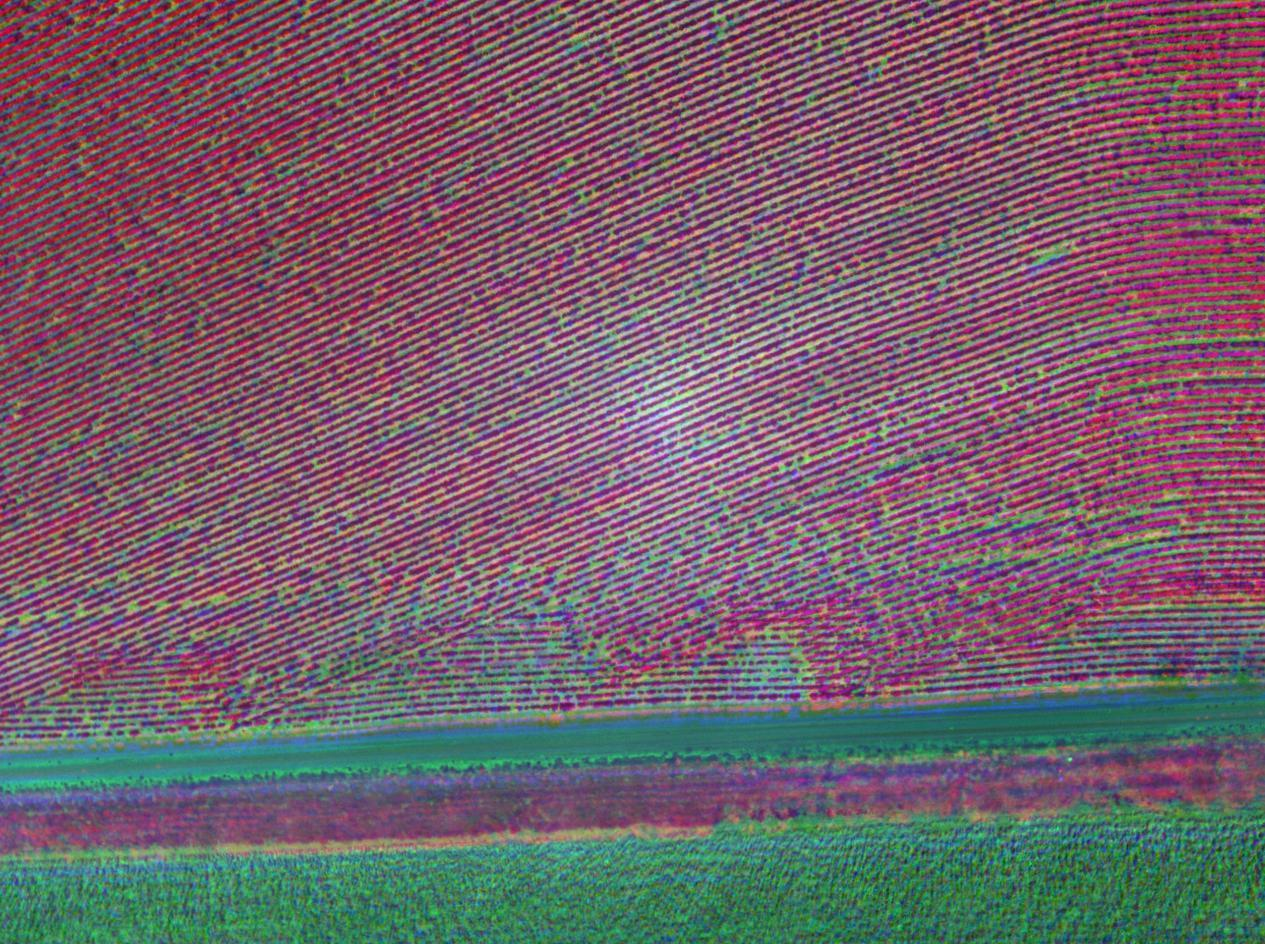dc: (826, 380, 831, 385), (941, 278, 945, 283), (611, 336, 616, 340), (747, 245, 751, 249), (546, 498, 550, 502), (373, 343, 376, 347), (677, 396, 680, 400), (703, 442, 707, 445), (458, 572, 462, 575), (215, 597, 219, 600), (130, 606, 134, 609), (693, 293, 696, 296), (174, 573, 178, 575)
